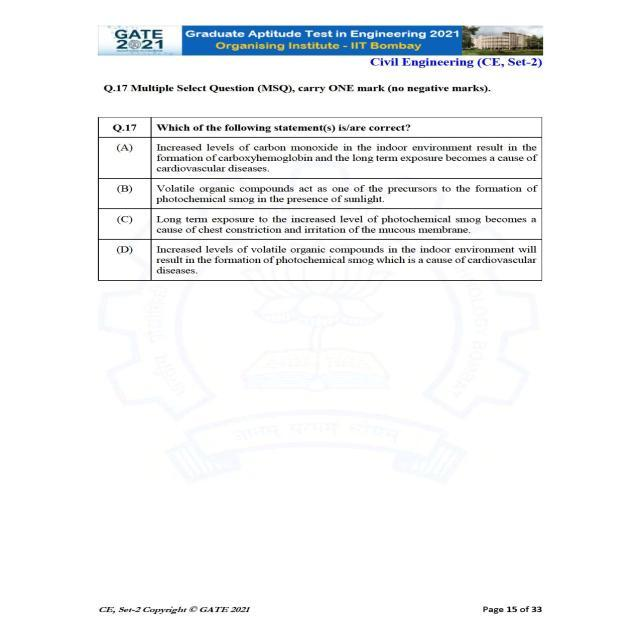Answer_Block: (100, 141, 540, 280)
Question_Answer_Block: (99, 116, 542, 283)
Question_Block: (100, 116, 540, 140)
Question_Paper_Area: (97, 76, 542, 282)
